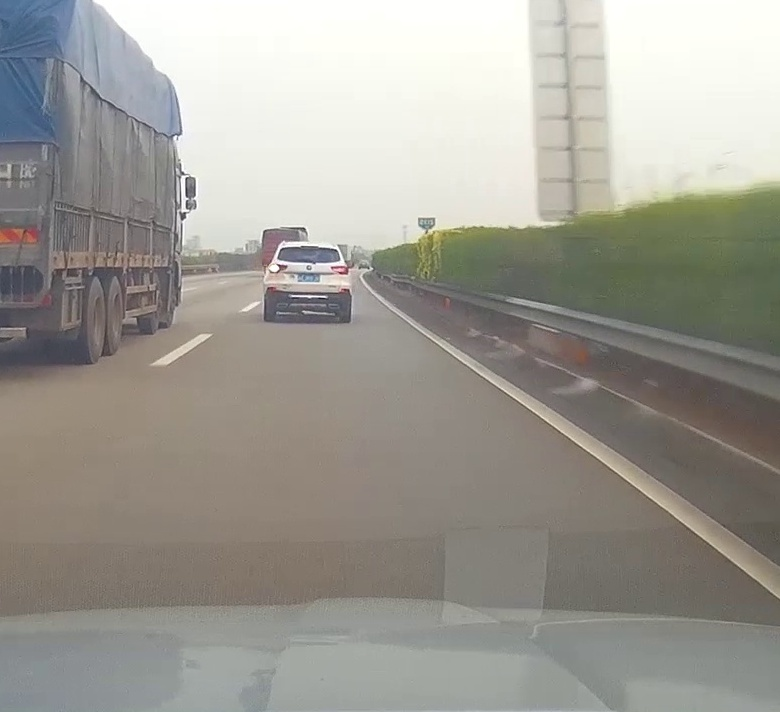L_light: (268, 264, 288, 274)
R_light: (331, 266, 348, 276)
T_light: (300, 245, 318, 249)
day-left: (263, 242, 352, 323)
